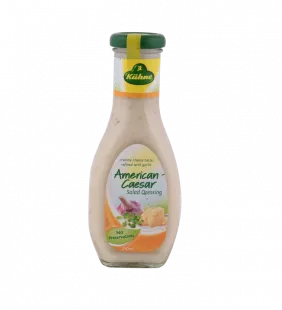KÜHNE: (77, 20, 188, 276)
